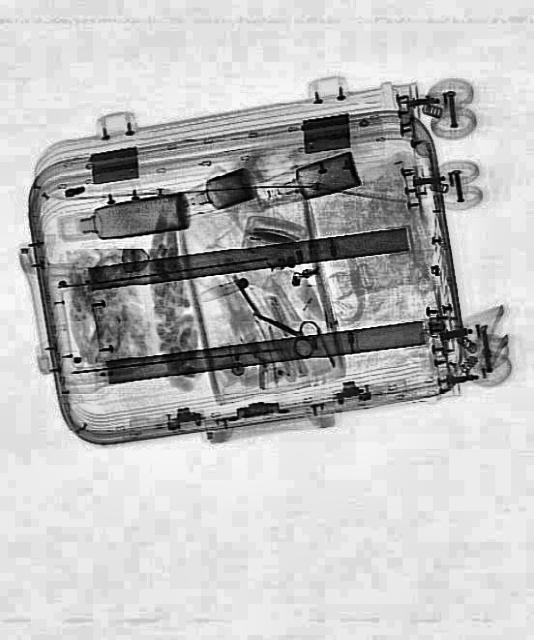Scissors: (244, 296, 324, 362)
